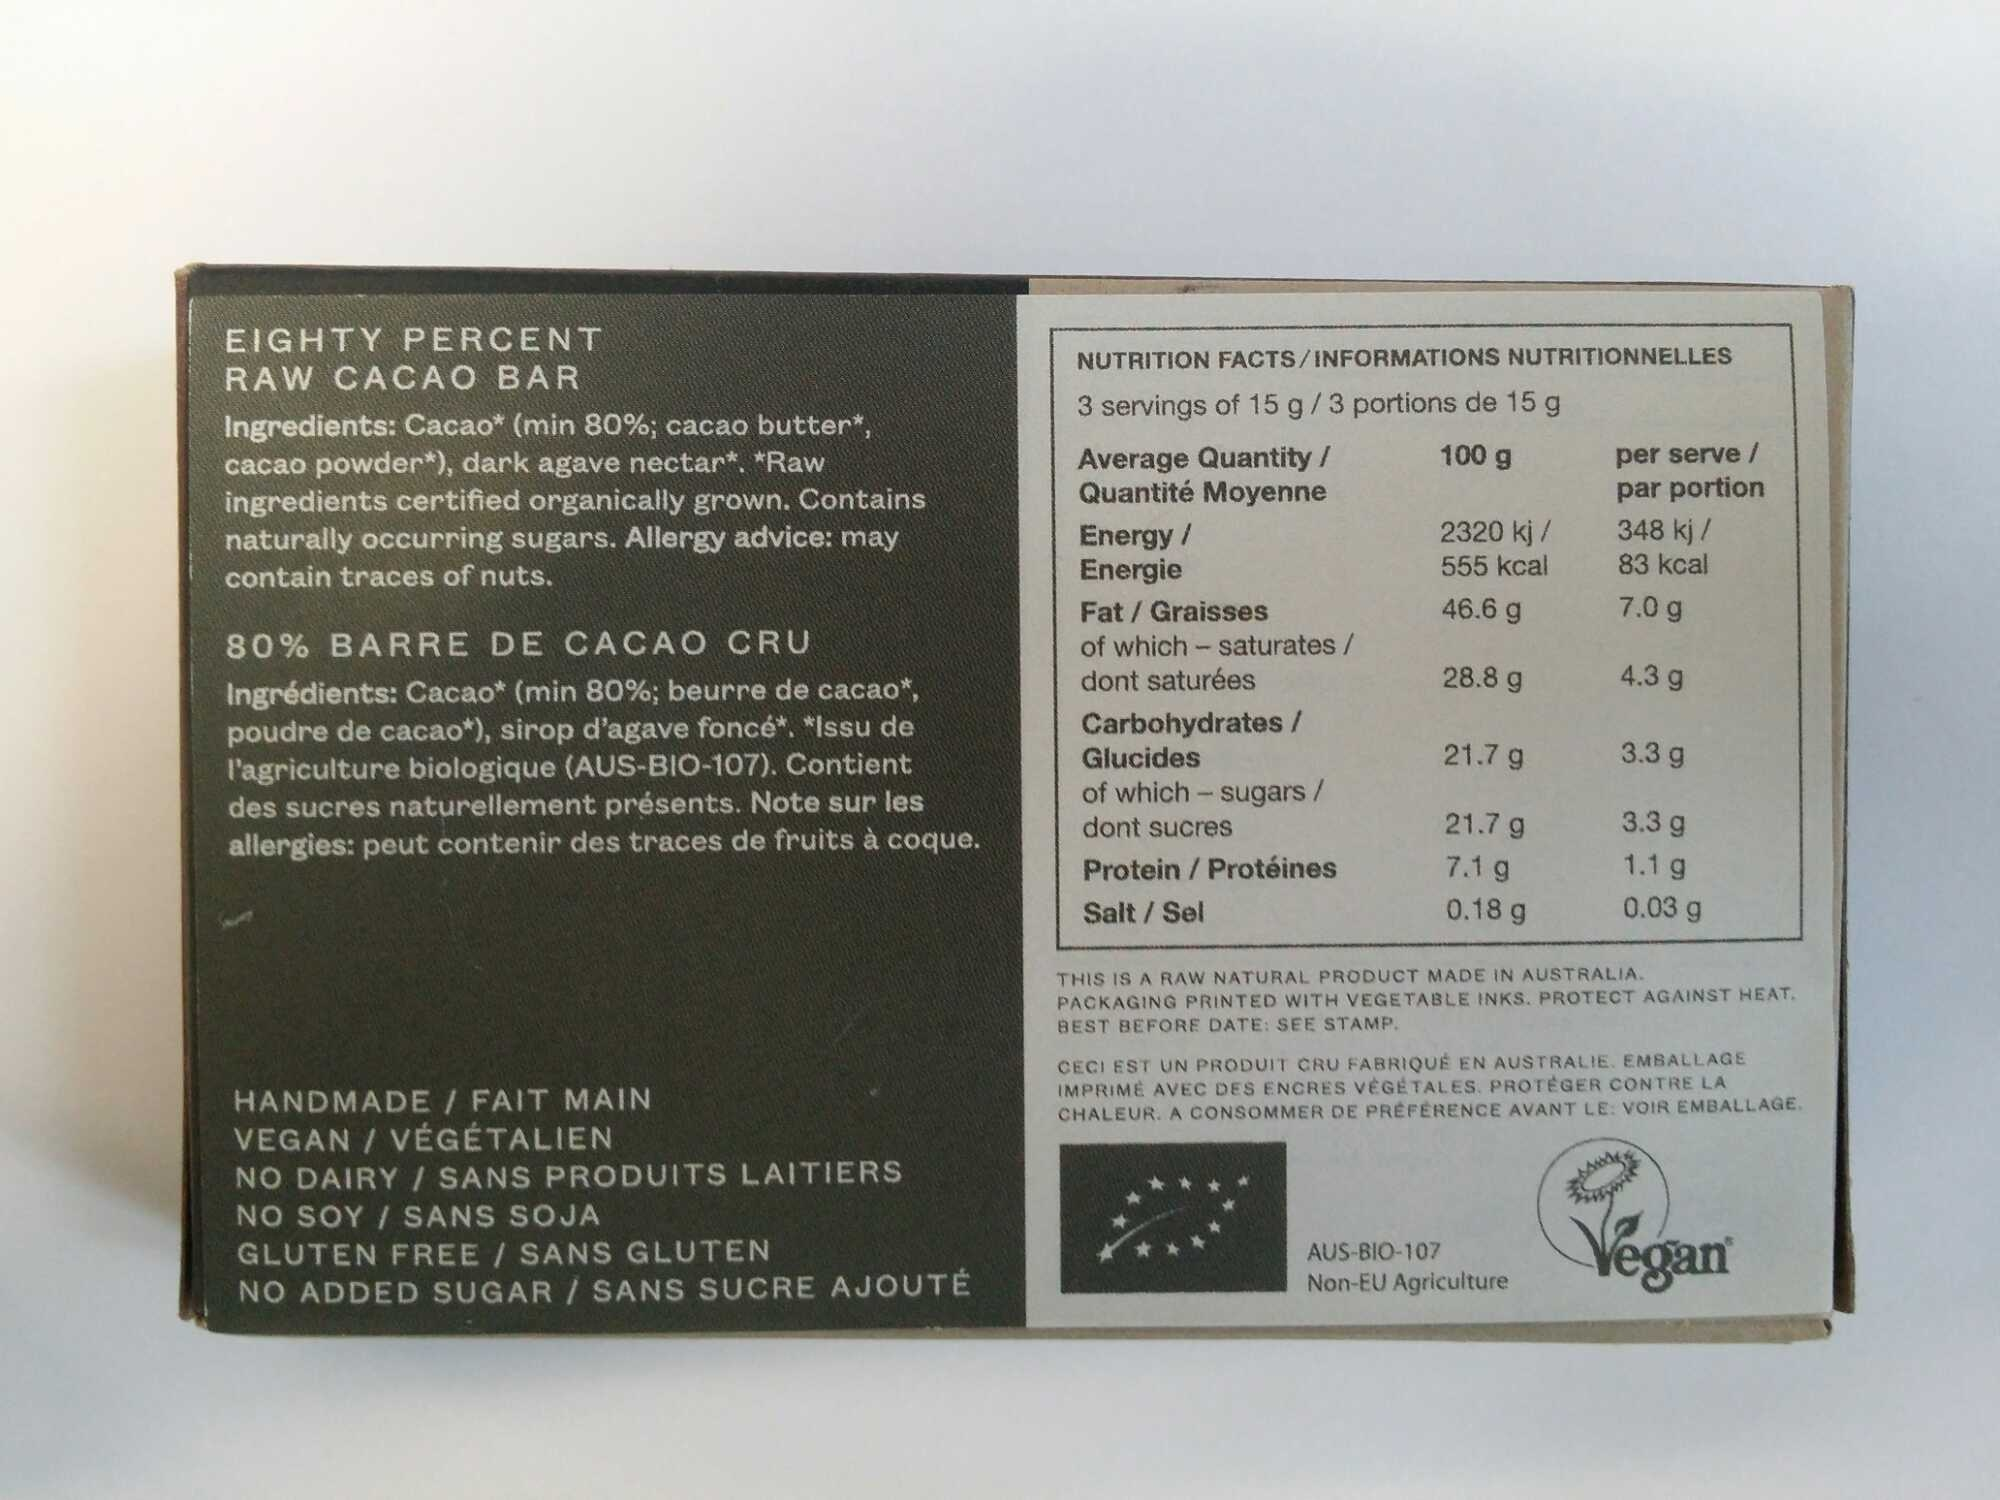column: (1079, 432, 1361, 928), (1606, 422, 1769, 925), (1431, 429, 1562, 930)
table: (1044, 321, 1813, 950)
